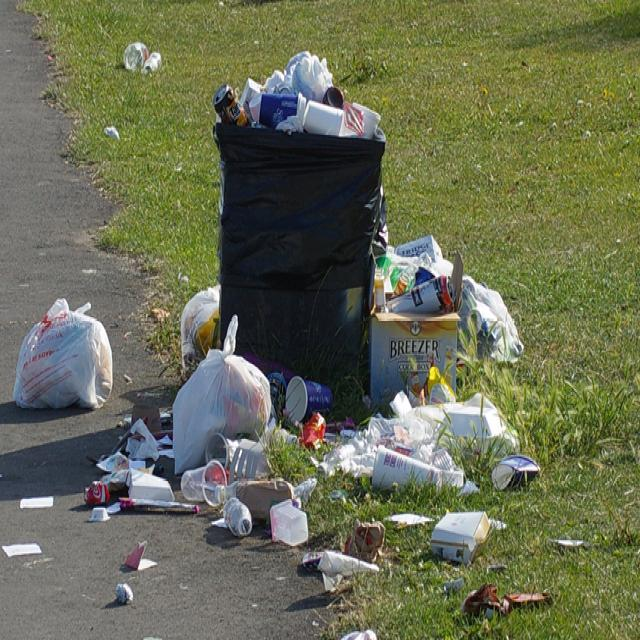garbage: (314, 354, 531, 482), (94, 424, 300, 549), (373, 228, 486, 408), (215, 51, 382, 138), (174, 336, 266, 479), (24, 286, 107, 423), (306, 512, 379, 586), (422, 507, 485, 572)
